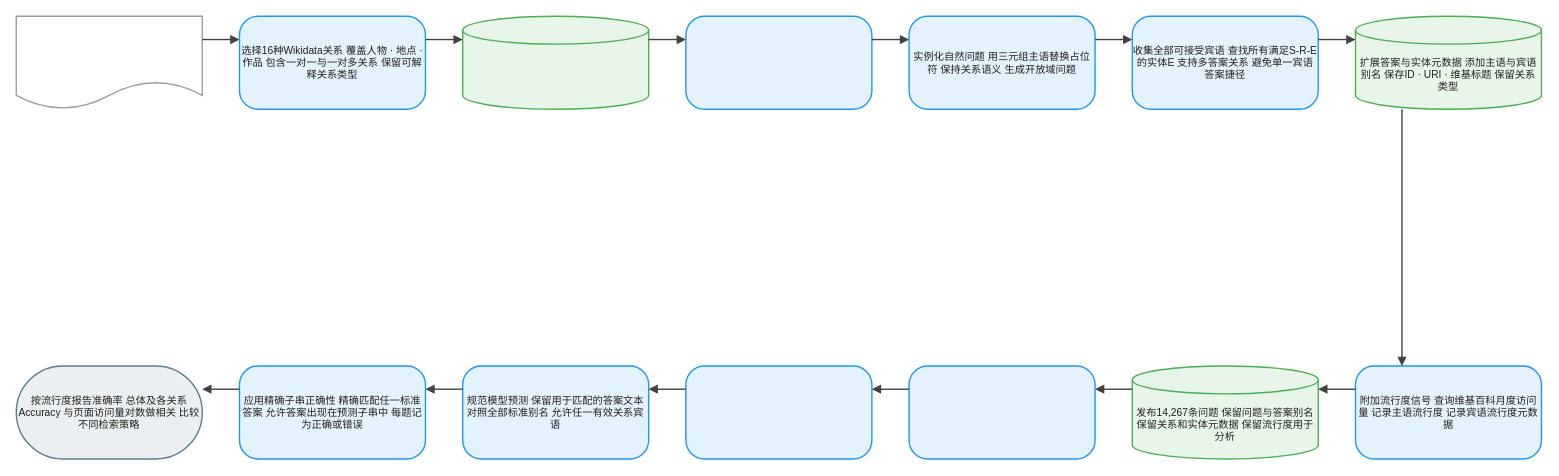
Image size: 1559x476. Some labels were removed from this diagram. The centre of each missing label's shape, as x and y in pixels:
"为每种关系编写模板 人工表达关系含义 使用自然问题形式 同类问题保持措辞一致" goes at pixel 778 62.
"定义流行度敏感问答 探测事实参数记忆 同时包含热门与长尾实体 使用开放域问题" goes at pixel 109 62.
"比较记忆模式 评测模型原始参数记忆 添加BM25或Contriever检索 添加GenRead或自适应检索" goes at pixel 778 412.
"运行开放域问答 不提供支撑段落 使用零样本或少样本提示 生成自由文本答案" goes at pixel 1001 412.
"随机抽取知识三元组 抽取主语关系宾语事实 覆盖广泛流行度 保留Wikidata标识符" goes at pixel 555 62.
